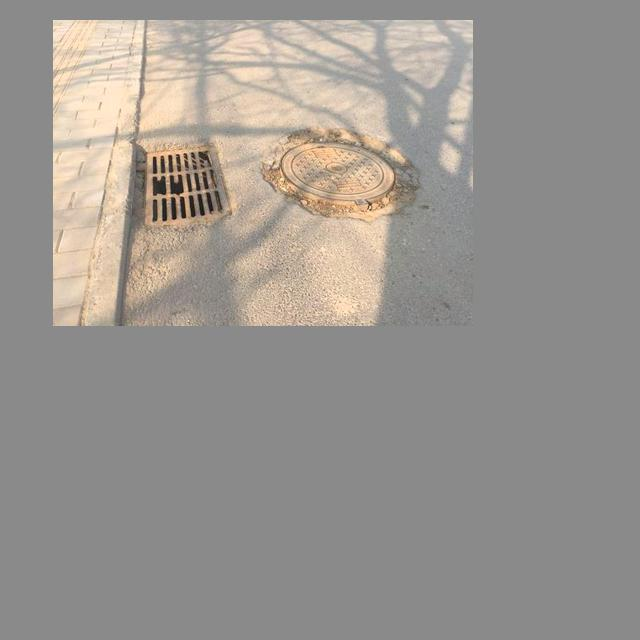circle: (257, 119, 421, 225)
